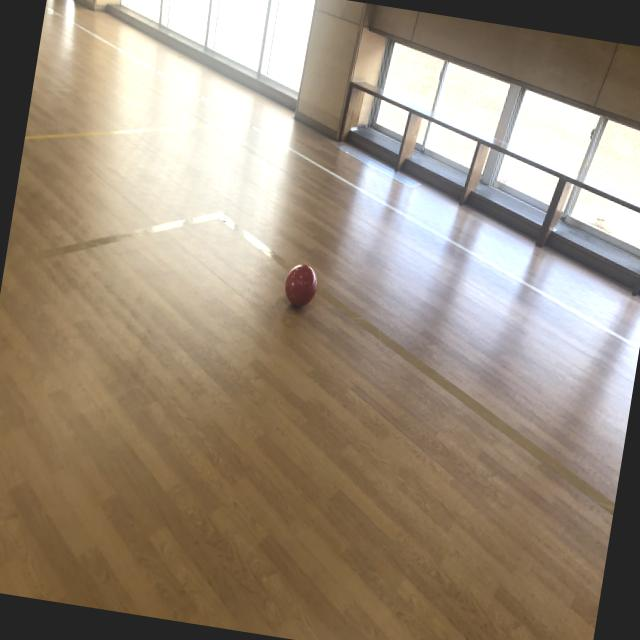red_ball: (282, 260, 321, 311)
